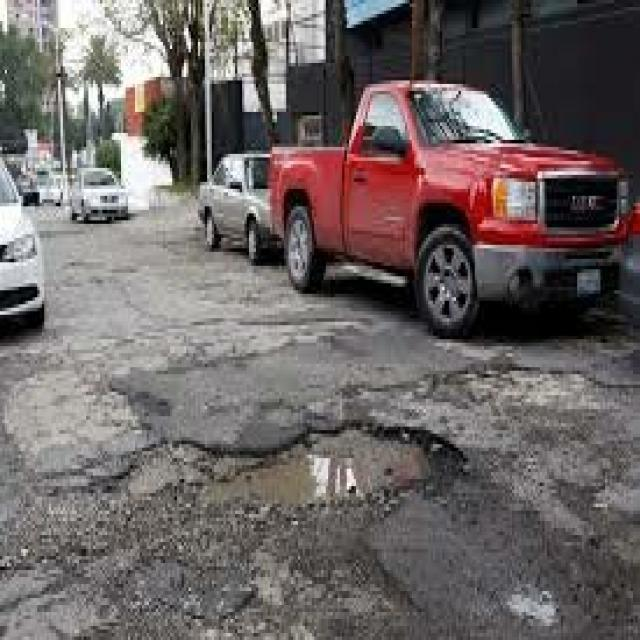pothole: (82, 336, 594, 606)
